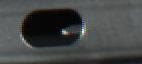holes: (20, 6, 84, 49)
